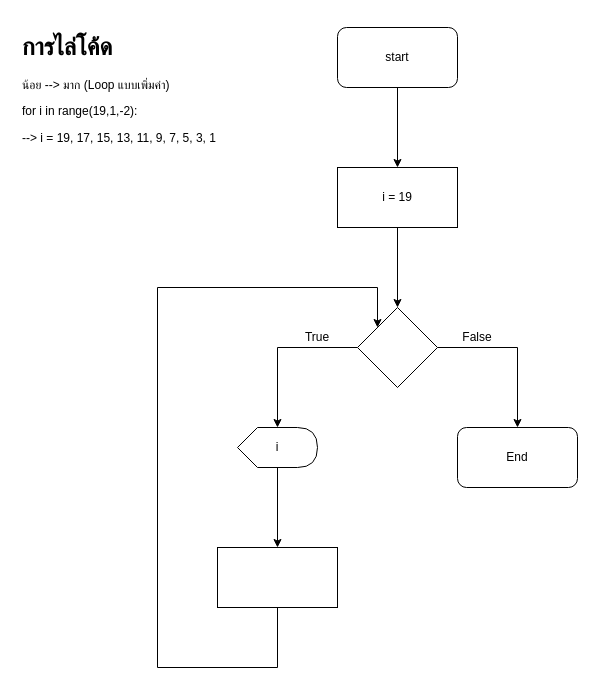
This 595x693 diagram has some shape labels left out. The shapes that lost their labels are listed below. From the top down, each one's centre as x and y in pixels, then its label:
(x=397, y=347): i >= 1
(x=277, y=577): i -= 2
